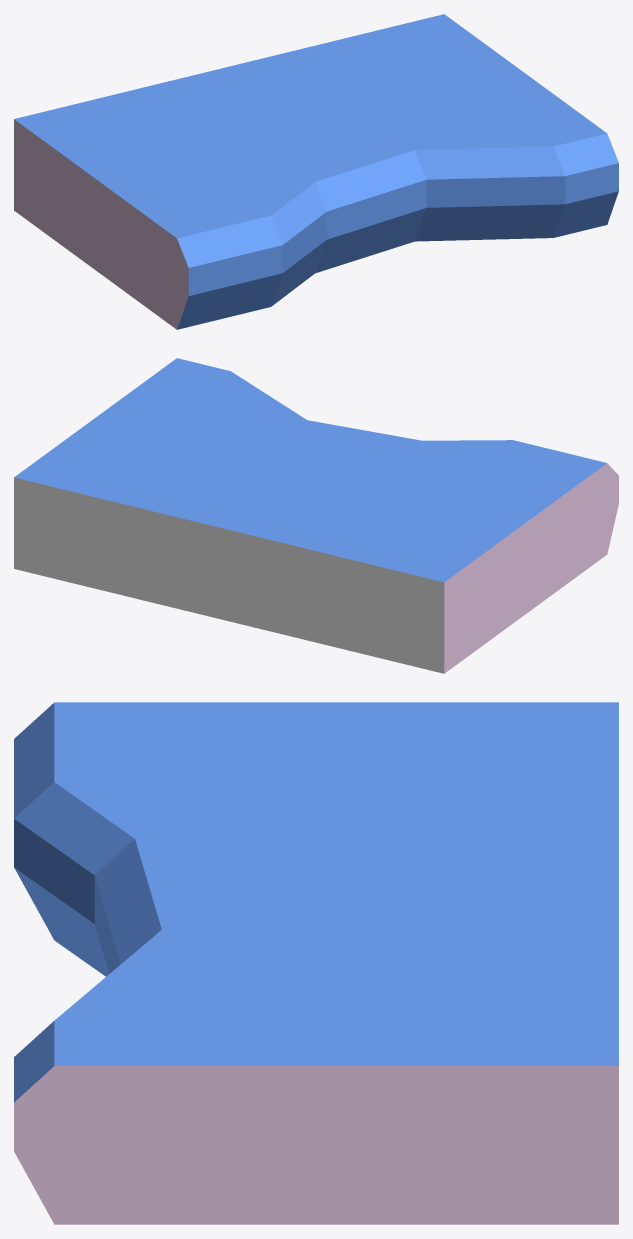
File: Iceberg_Straight_2x2_3.fbx
3 renders of one model, top to bottom at view 1: azimuth 30°, elevation 25°; view 2: azimuth 150°, elevation 25°; view 3: azimuth 270°, elevation 25°, orthographic. The views are drawn at different scales.
Visible parts, largest first — view 1: Iceberg_Straight_2x2_3; view 2: Iceberg_Straight_2x2_3; view 3: Iceberg_Straight_2x2_3.
Boxes of the visible parts, <box> form: Iceberg_Straight_2x2_3: <box>14,14,618,329</box>; Iceberg_Straight_2x2_3: <box>14,358,618,673</box>; Iceberg_Straight_2x2_3: <box>14,702,618,1224</box>.
Size of the model in its own units: 200 by 40.63 by 141.
